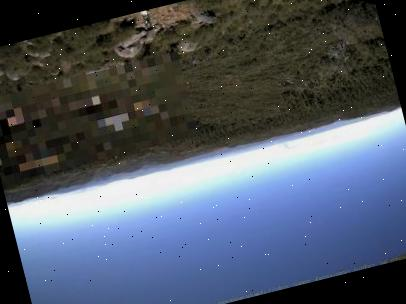smoke: (278, 137, 299, 154)
